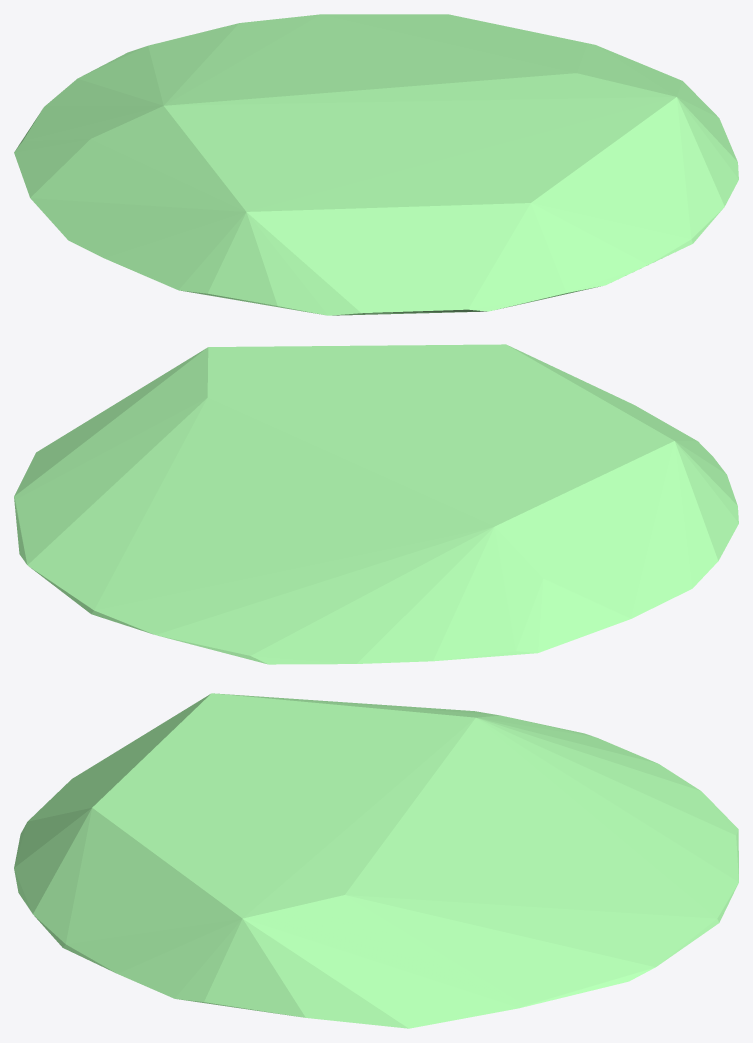
File: linkhou_LR4_R560_link3_respondable_coll_4.dae
3 views of the same model, one above another, from view 1: azimuth 30°, elevation 25°; view 2: azimuth 150°, elevation 25°; view 3: azimuth 270°, elevation 25° (orthographic).
Visible parts, largest first — view 1: Node_00000209DB3AB530; view 2: Node_00000209DB3AB530; view 3: Node_00000209DB3AB530.
Boxes of the visible parts, left/top/right/bottom form: Node_00000209DB3AB530: left=14, top=14, right=738, bottom=315; Node_00000209DB3AB530: left=14, top=344, right=738, bottom=664; Node_00000209DB3AB530: left=14, top=693, right=738, bottom=1028.
Size of the model in its own units: 0.0916 by 0.0137 by 0.0899.
